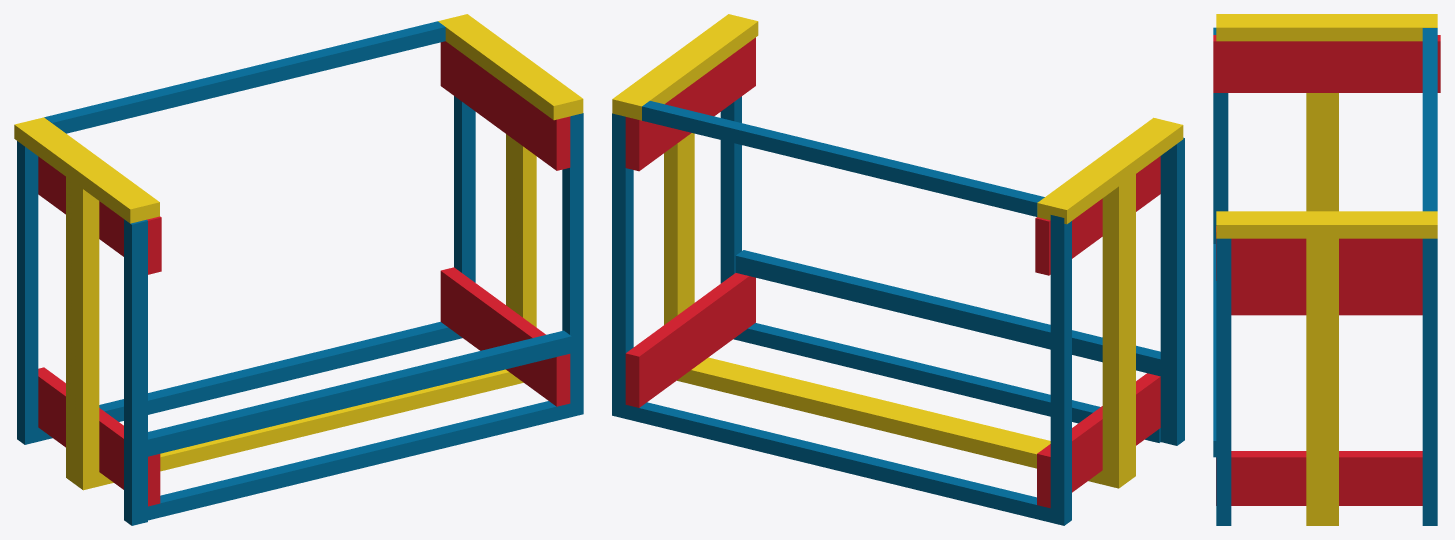
File: tinker.obj
The picture shows the model from 3 angles, left to right: view 1: azimuth 30°, elevation 25°; view 2: azimuth 150°, elevation 25°; view 3: azimuth 270°, elevation 25°; orthographic projection. The views are drawn at different scales.
Parts seen in each view (by area): view 1: group_0_30377, group_0_16768282, group_0_15277357; view 2: group_0_30377, group_0_16768282, group_0_15277357; view 3: group_0_15277357, group_0_16768282, group_0_30377.
Part boxes in pixels (x1,y1,x2,y2): group_0_30377: (17, 21, 583, 525); group_0_16768282: (14, 14, 583, 490); group_0_15277357: (38, 41, 570, 506); group_0_30377: (612, 96, 1184, 525); group_0_16768282: (612, 14, 1183, 488); group_0_15277357: (625, 37, 1160, 508); group_0_15277357: (1213, 35, 1440, 505); group_0_16768282: (1216, 14, 1437, 525); group_0_30377: (1213, 27, 1437, 525).
Size of the model in its own units: 167 by 111 by 76.
